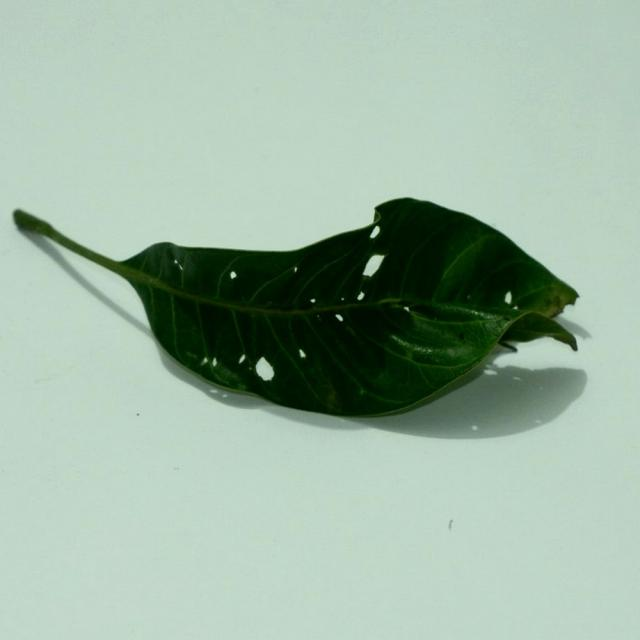Anthracnose: (247, 347, 281, 386), (362, 254, 385, 279), (368, 225, 381, 240), (504, 291, 513, 305), (173, 260, 182, 273), (356, 290, 366, 301), (298, 348, 307, 359), (238, 354, 246, 366), (211, 356, 218, 369), (200, 356, 208, 367), (335, 314, 344, 323), (458, 331, 466, 341), (229, 271, 237, 280), (404, 305, 412, 314), (510, 301, 519, 309), (512, 376, 522, 381), (209, 389, 219, 394), (309, 298, 316, 305), (466, 294, 473, 301), (292, 266, 298, 274), (178, 264, 183, 271), (221, 393, 228, 398), (174, 259, 179, 265)
Mango: (12, 198, 579, 422)
